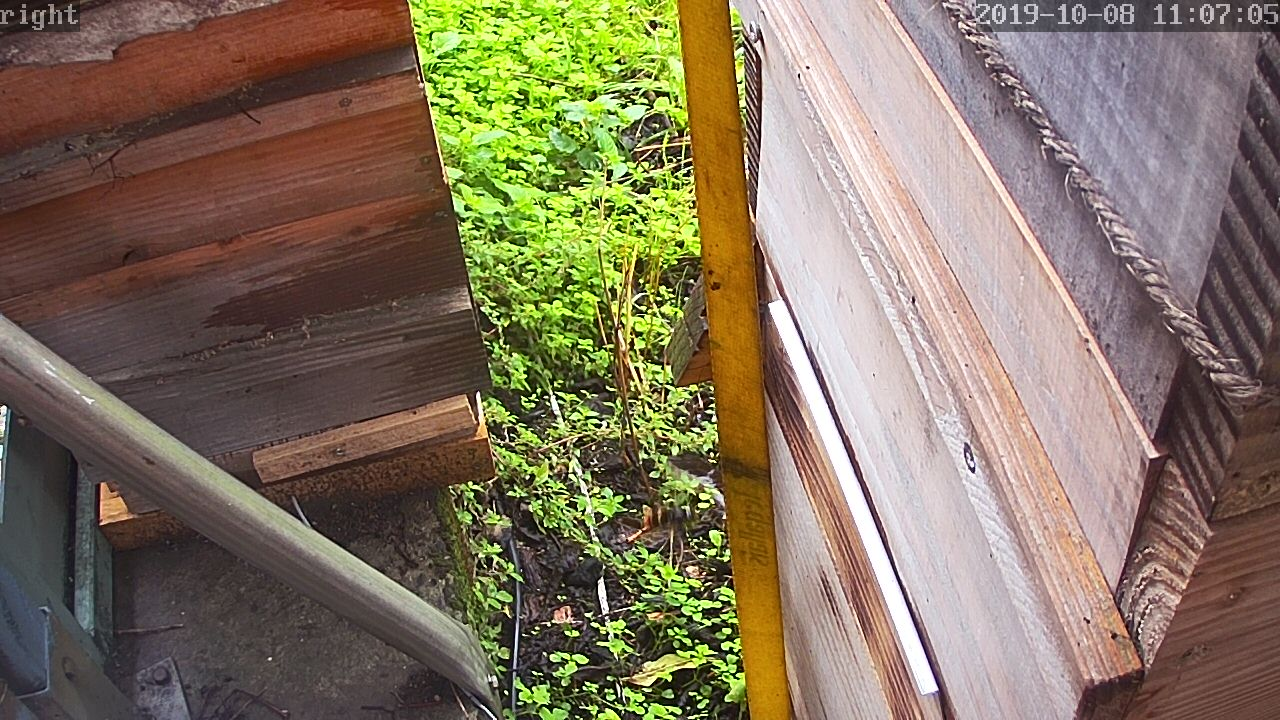hornet: (638, 499, 700, 544)
